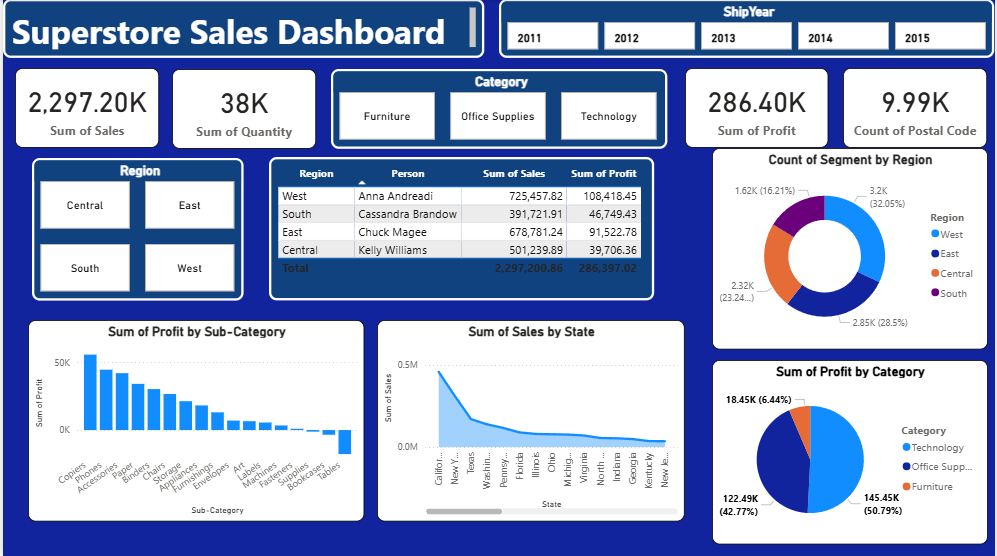

The dashboard page shown, as its layout file describes it:
{"tool":"powerbi","page":{"name":"Page 1","canvas":[1280,720],"ordinal":0},"visuals":[{"type":"advancedSlicerVisual","fields":{"Values":["Orders.ShipYear"]},"box":[640.5,0,639.5,76.1],"z":0},{"type":"pieChart","fields":{"Y":["Orders.Profit"],"Category":["Orders.Category"]},"box":[914.7,465.9,355.6,237.8],"z":1000},{"type":"clusteredColumnChart","fields":{"Y":["Orders.Profit"],"Category":["Orders.Sub-Category"]},"box":[32.9,414.3,434.3,260],"z":2000},{"type":"areaChart","fields":{"Y":["Orders.Sales"],"Category":["Orders.State"]},"box":[482.9,414.3,397.1,260],"z":3000},{"type":"donutChart","fields":{"Y":["Orders.Segment"],"Category":["Orders.Region"]},"box":[914.7,192.8,355.6,260.3],"z":4000},{"type":"tableEx","fields":{"Values":["Orders.Region","People.Person","Orders.Sales","Orders.Profit"]},"box":[343.8,203.5,497,185.3],"z":5000},{"type":"textbox","box":[0,0,621.1,75.6],"z":6000},{"type":"advancedSlicerVisual","fields":{"Values":["Orders.Region"]},"box":[37.5,204.6,273.1,184.2],"z":8000},{"type":"card","fields":{"Values":["Orders.Sales"]},"box":[15,88.9,186.4,102.8],"z":9000},{"type":"card","fields":{"Values":["Orders.Quantity"]},"box":[217.4,90,186.4,102.8],"z":10000},{"type":"card","fields":{"Values":["Orders.Profit"]},"box":[880.5,88.9,185.3,102.8],"z":11000},{"type":"card","fields":{"Values":["Orders.Postal Code"]},"box":[1084,88.9,186.4,102.8],"z":12000},{"type":"advancedSlicerVisual","fields":{"Values":["Orders.Category"]},"box":[423.1,90,433.8,102.8],"z":13000}]}

Visuals, with their boxes in screenshot pixels (x1, y1, x2, y2), scaled from the page's 1280x720 canvas onto the 997x556 screenshot:
advancedSlicerVisual - Orders.ShipYear: [x1=499, y1=0, x2=996, y2=59]
pieChart - Orders.Profit x Orders.Category: [x1=712, y1=360, x2=989, y2=543]
clusteredColumnChart - Orders.Profit x Orders.Sub-Category: [x1=26, y1=320, x2=364, y2=521]
areaChart - Orders.Sales x Orders.State: [x1=376, y1=320, x2=685, y2=521]
donutChart - Orders.Segment x Orders.Region: [x1=712, y1=149, x2=989, y2=350]
tableEx - Orders.Region x People.Person: [x1=268, y1=157, x2=655, y2=300]
textbox: [x1=0, y1=0, x2=484, y2=58]
advancedSlicerVisual - Orders.Region: [x1=29, y1=158, x2=242, y2=300]
card - Orders.Sales: [x1=12, y1=69, x2=157, y2=148]
card - Orders.Quantity: [x1=169, y1=70, x2=315, y2=149]
card - Orders.Profit: [x1=686, y1=69, x2=830, y2=148]
card - Orders.Postal Code: [x1=844, y1=69, x2=990, y2=148]
advancedSlicerVisual - Orders.Category: [x1=330, y1=70, x2=667, y2=149]
